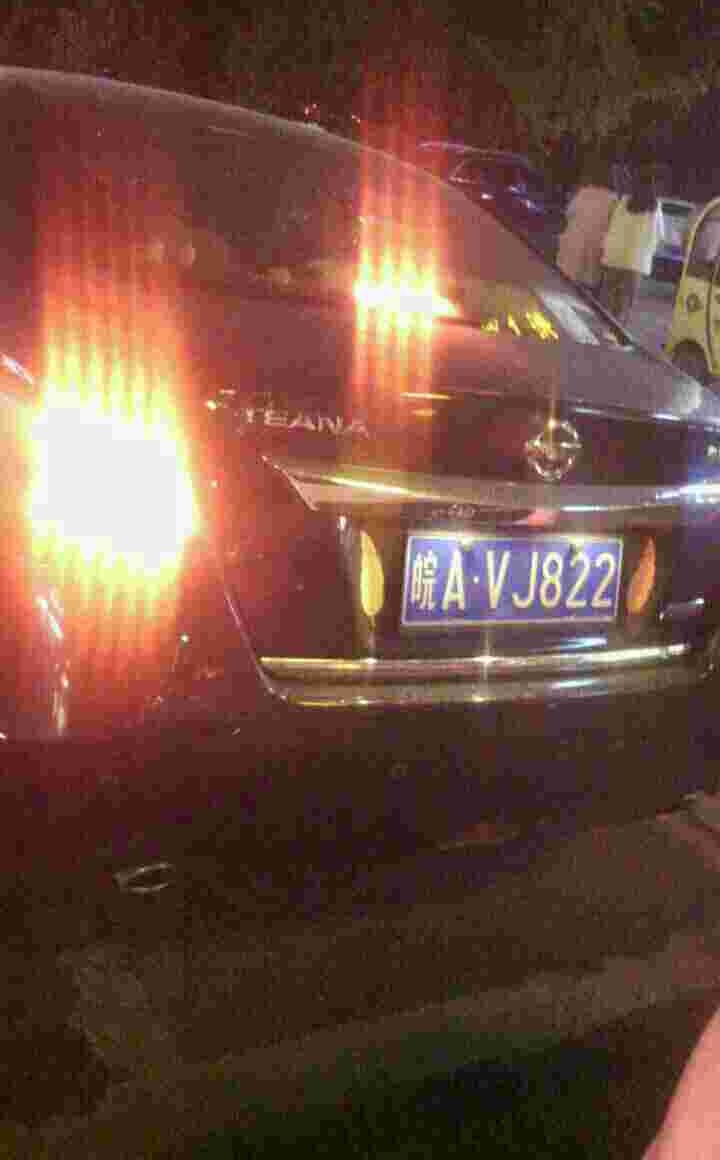plate: (408, 532, 632, 627)
